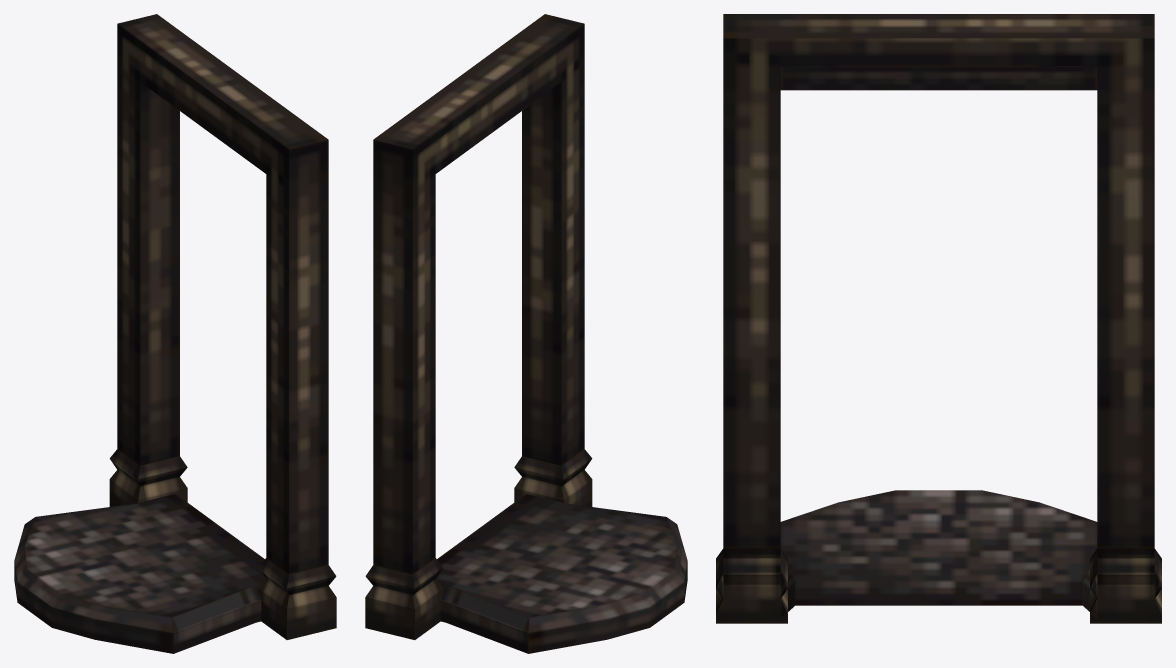
The model's file is EnvBdgMD_Wilderness_B_Outdoor_Entrance_A.FBX.
3 renders of one model, left to right at view 1: azimuth 30°, elevation 25°; view 2: azimuth 150°, elevation 25°; view 3: azimuth 270°, elevation 25°, orthographic. The views are drawn at different scales.
Visible parts, largest first — view 1: EnvBdgMD_Wilderness_B_Outdoor_Entrance_A; view 2: EnvBdgMD_Wilderness_B_Outdoor_Entrance_A; view 3: EnvBdgMD_Wilderness_B_Outdoor_Entrance_A.
Boxes of the visible parts, x1,y1,x2,y2 form: EnvBdgMD_Wilderness_B_Outdoor_Entrance_A: (14, 14, 336, 653); EnvBdgMD_Wilderness_B_Outdoor_Entrance_A: (365, 14, 687, 653); EnvBdgMD_Wilderness_B_Outdoor_Entrance_A: (716, 14, 1161, 623).
Bounding box in the file's own units: 108 × 235 × 155.
1 material, 1 textured.
